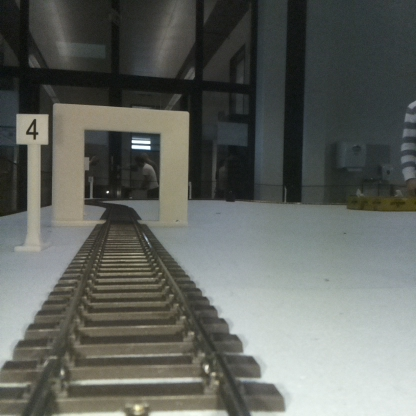white-info-4: (16, 113, 48, 250)
